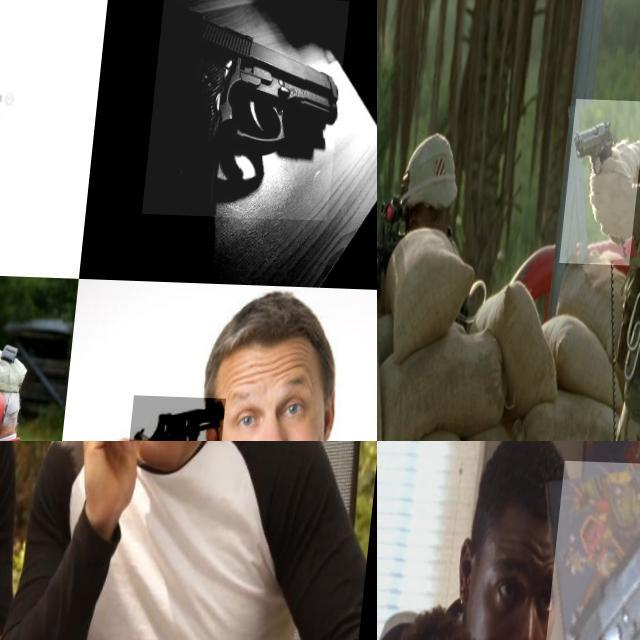-: (0, 519, 66, 632)
gun-knife-thesis - v11 Yolov5 augmented: (147, 0, 350, 216), (532, 457, 640, 640), (566, 96, 640, 261), (136, 392, 235, 441), (0, 103, 42, 198), (0, 347, 42, 441)
